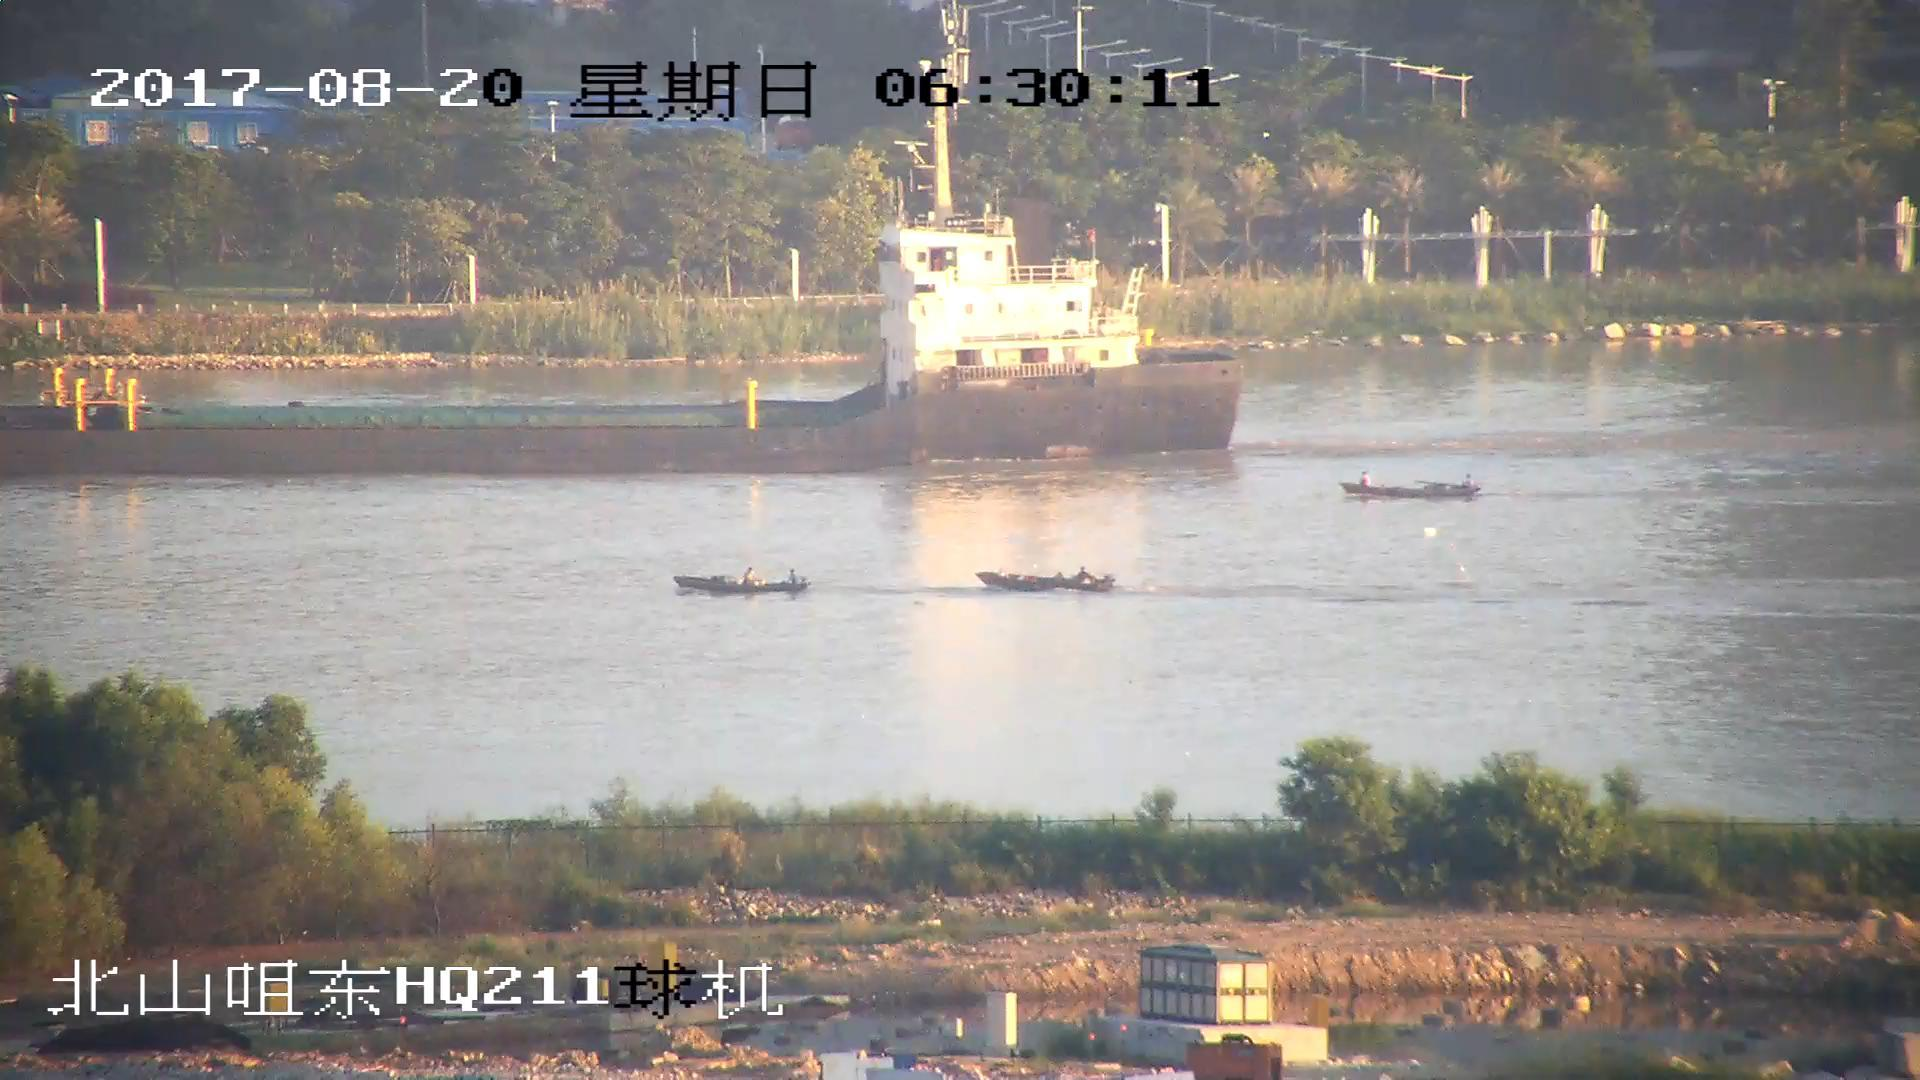Ship: (3, 123, 1244, 467), (676, 568, 808, 599), (1344, 475, 1482, 502), (980, 567, 1114, 595)
